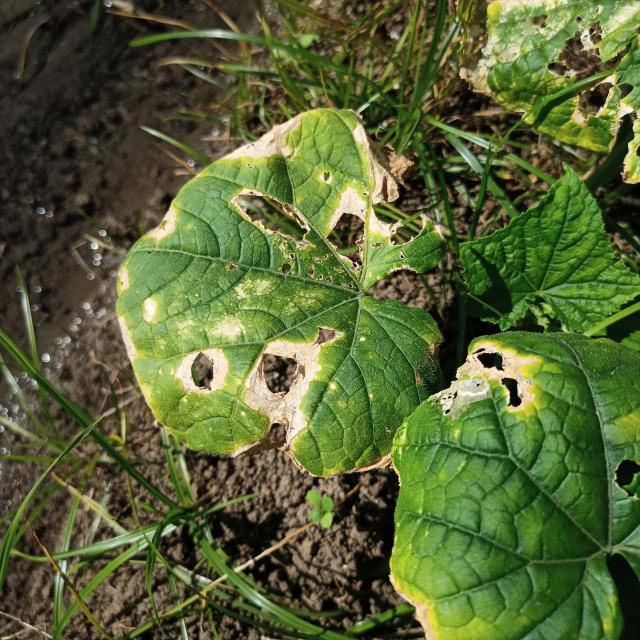disease_cucumber: (121, 110, 416, 448), (452, 341, 540, 417)
